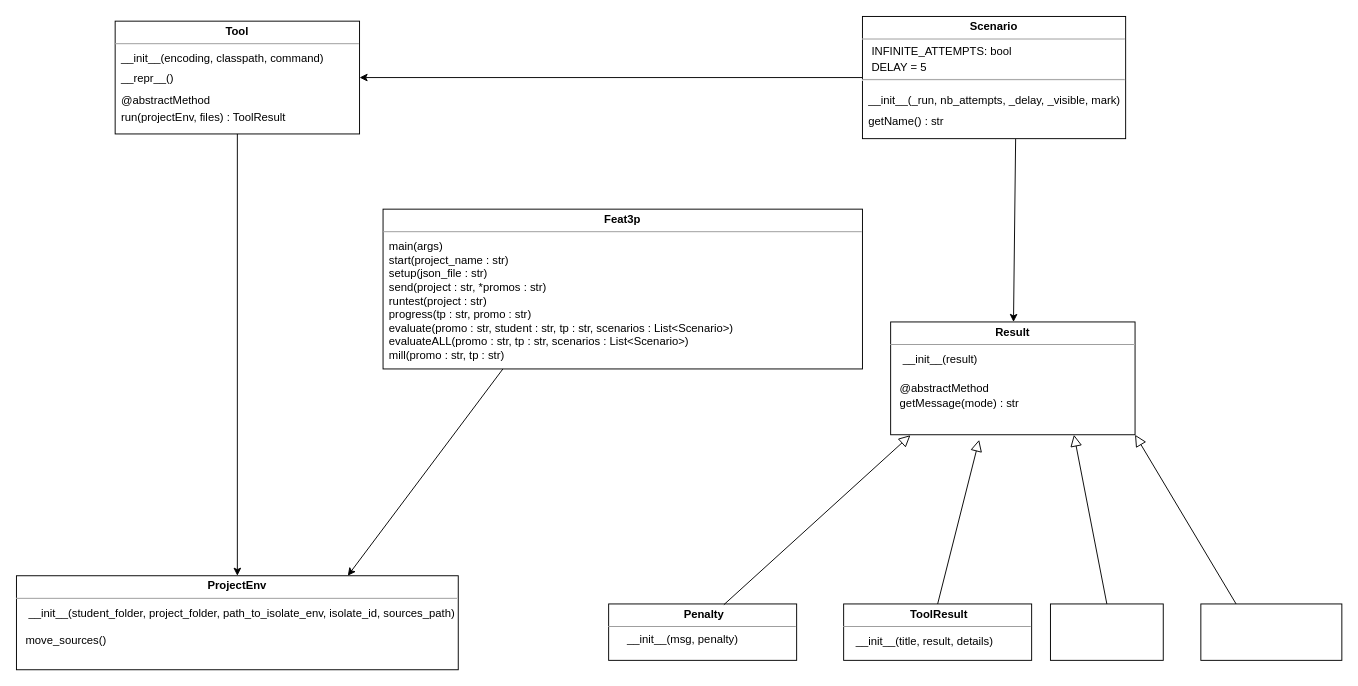
The diagram is 1358 pixels wide and 686 high, and some of its shapes have lost their labels. Each missing label, with the centre of its shape:
Section __init__(msg, lvl): the point at 1271,631
Text __init__(msg): the point at 1106,631
